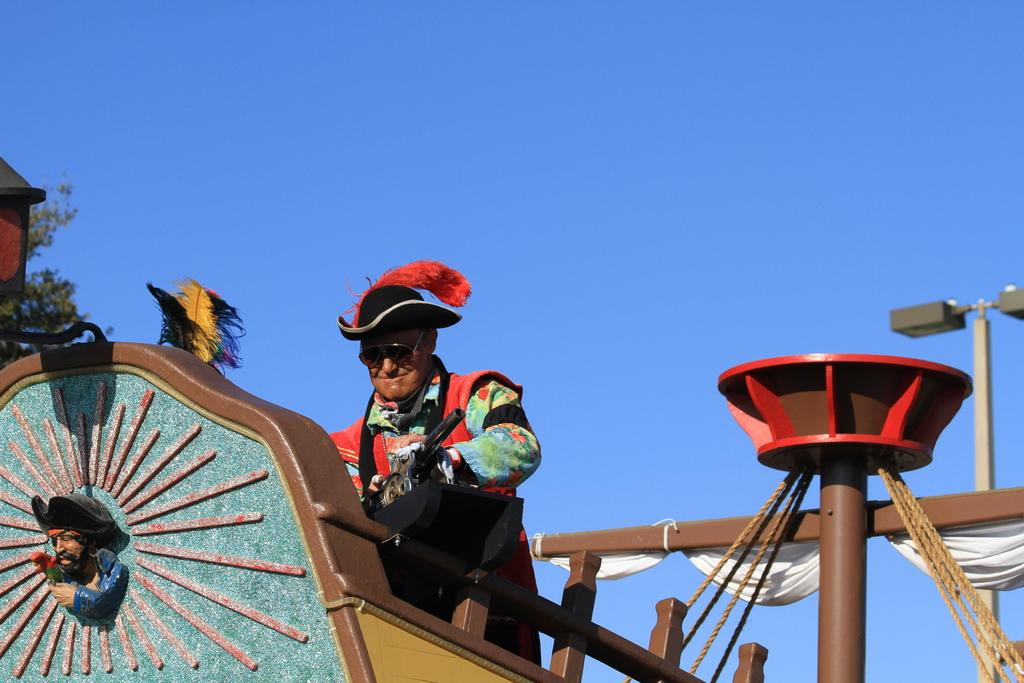Hat: (336, 284, 460, 340)
